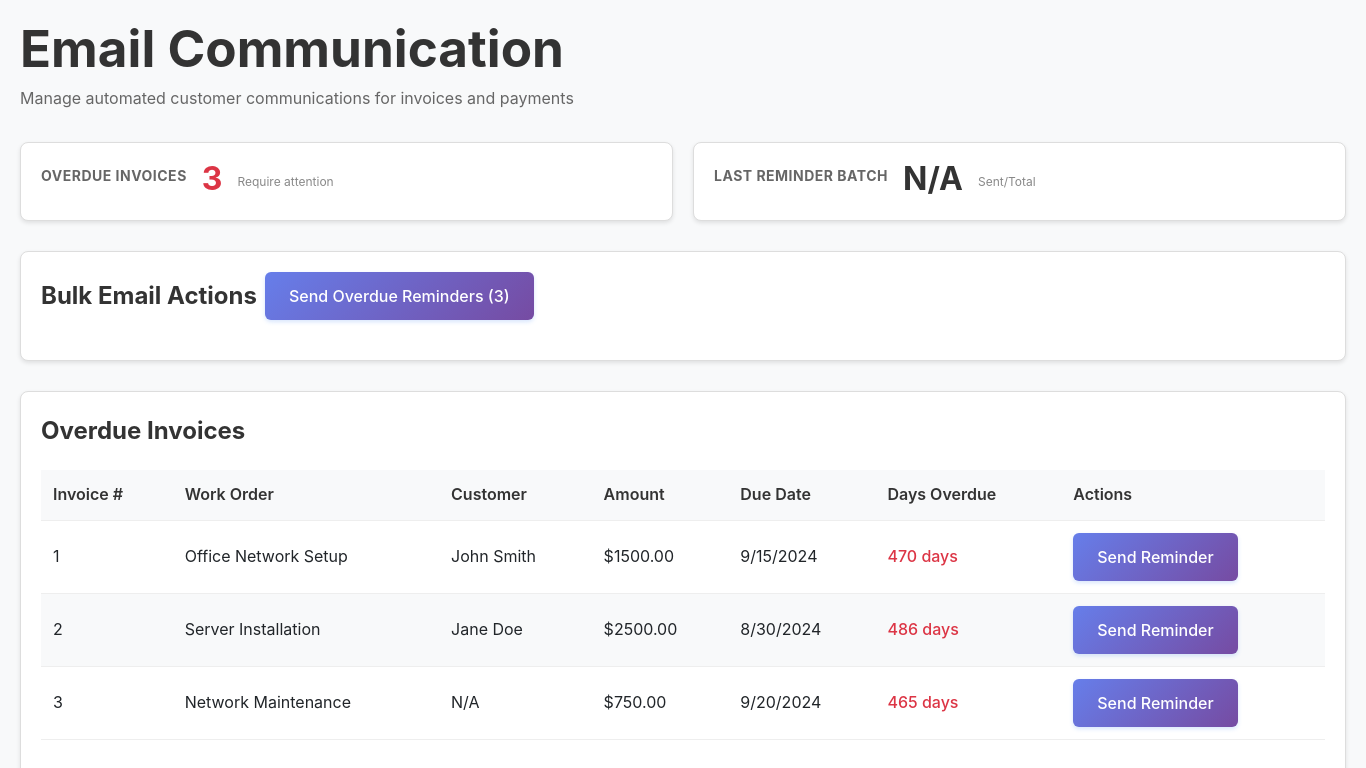
Scenario: EmailCommunication › Email Sending Functionality › displays email results after bulk sending
Click the button "Send Overdue Reminders (3)" at (399, 296), box [265,272,534,320]
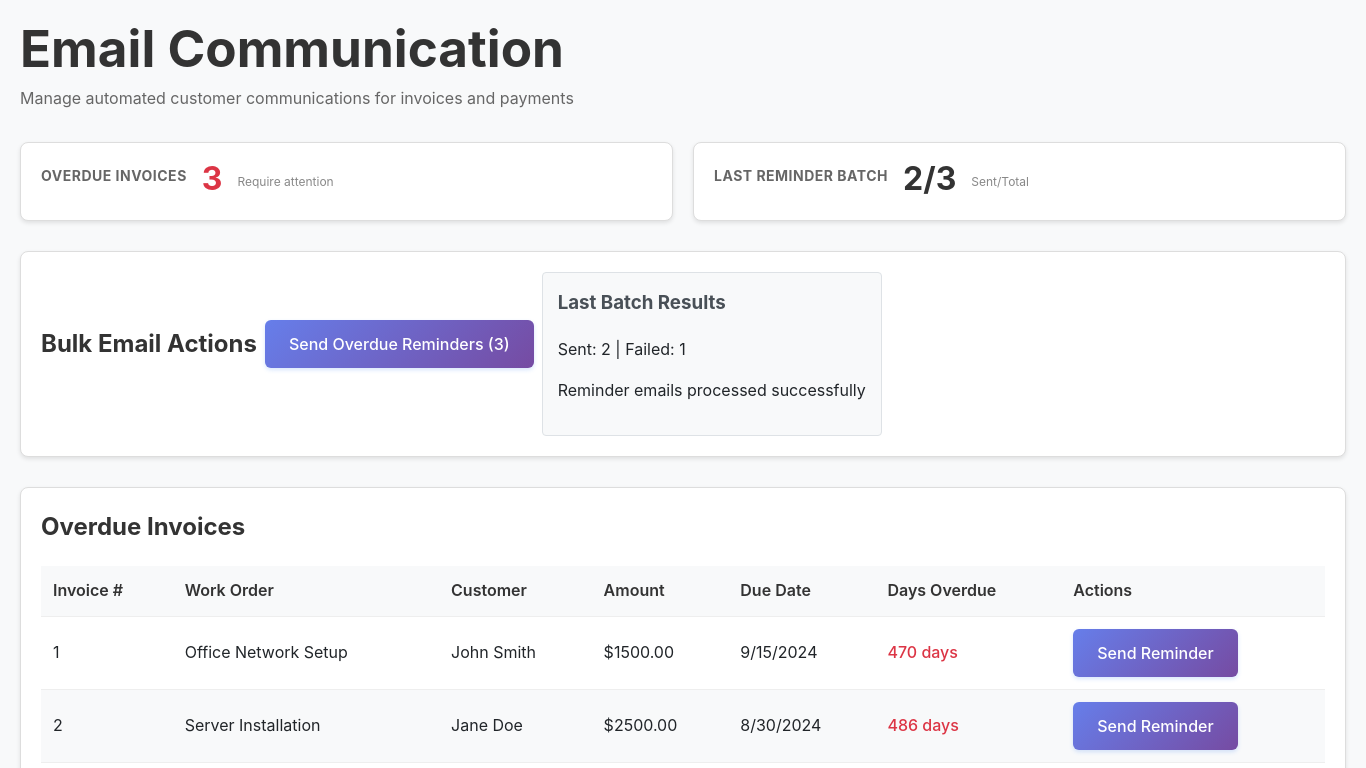
Expected: the heading "Last Batch Results" is shown, [558,291,726,314]
Expected: the text "Sent: 2 | Failed: 1" is shown, [558,339,686,359]
Expected: the text "Reminder emails processed successfully" is shown, [558,378,866,404]
